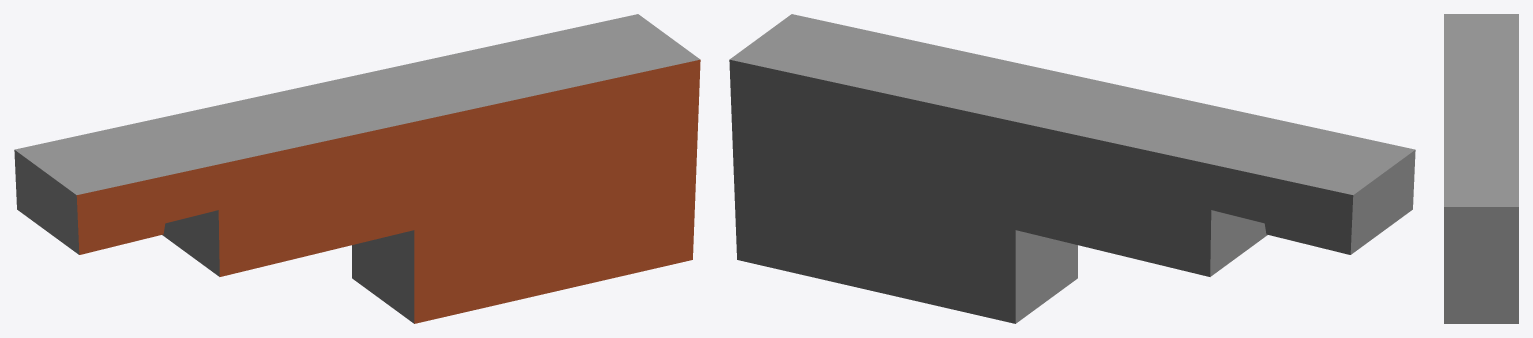
The model's file is construction_5956_assumed_A_Casa_h6m.obj.
3 views of the same model, side by side, from view 1: azimuth 30°, elevation 25°; view 2: azimuth 150°, elevation 25°; view 3: azimuth 270°, elevation 25° (orthographic). The views are drawn at different scales.
Parts seen in each view (by area): view 1: construction_5956_assumed_A_Casa; view 2: construction_5956_assumed_A_Casa; view 3: construction_5956_assumed_A_Casa.
Boxes of the visible parts, bbox=[...] form: construction_5956_assumed_A_Casa: bbox=[14, 14, 700, 323]; construction_5956_assumed_A_Casa: bbox=[729, 14, 1415, 323]; construction_5956_assumed_A_Casa: bbox=[1444, 14, 1518, 323].
Bounding box in the file's own units: 34.67 × 11.42 × 6.
